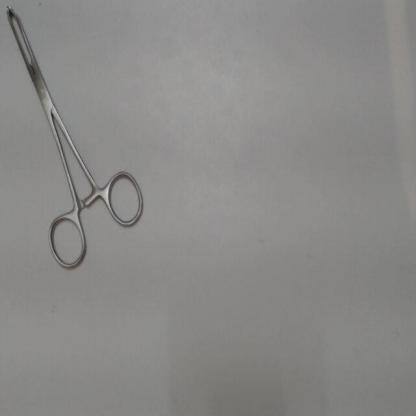Allis Tissue Forceps: (2, 2, 150, 280)
